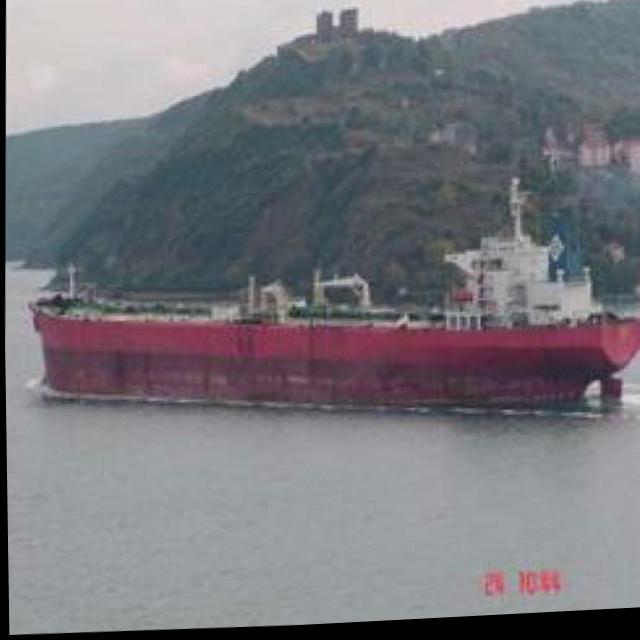ship2: (29, 180, 640, 420)
